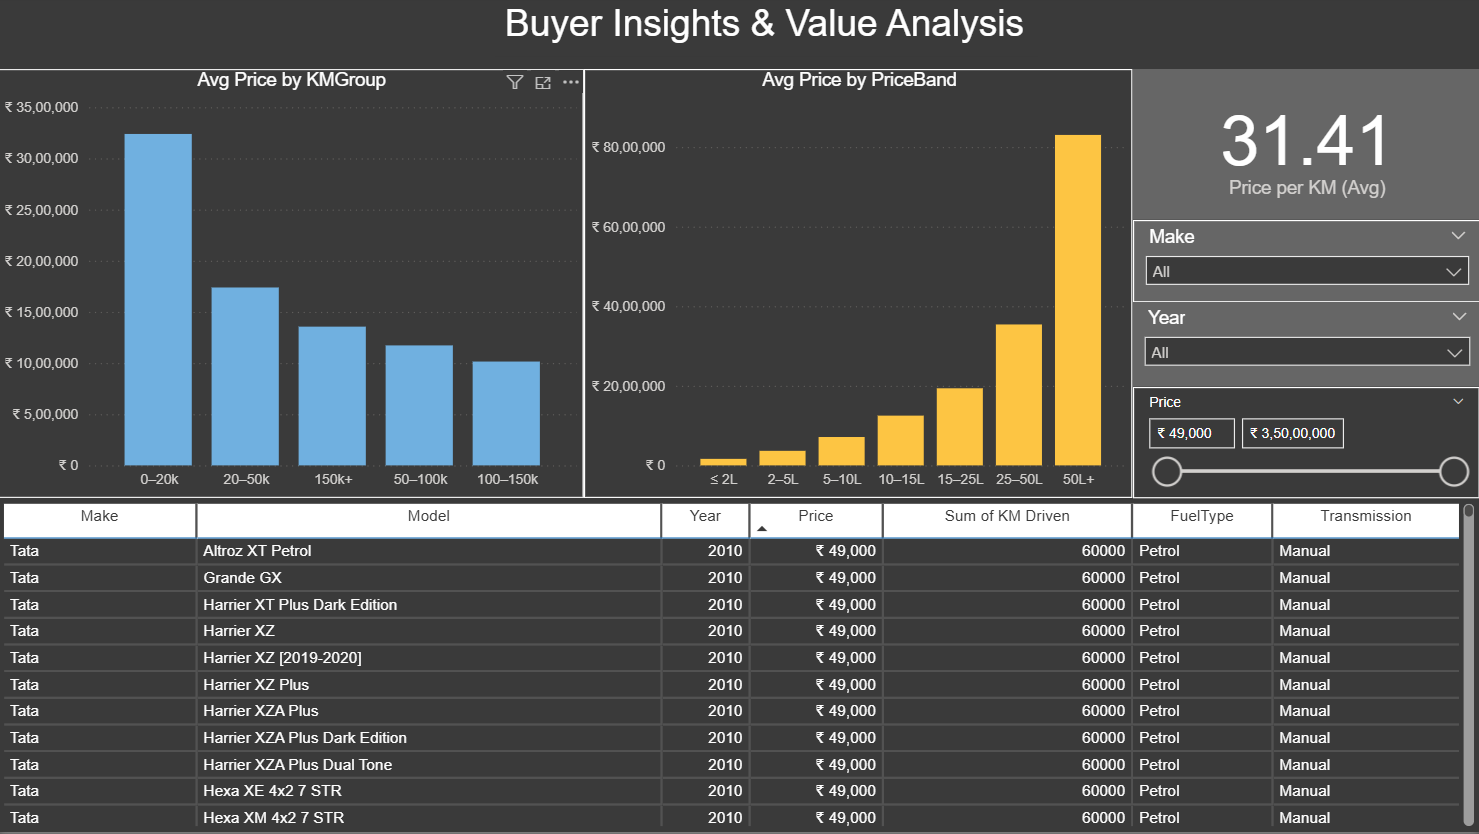

Layout of this report page (visuals, bound fields, positions):
{"tool":"powerbi","page":{"name":"Buyer Insights","canvas":[1280,720],"ordinal":1},"visuals":[{"type":"textbox","box":[429.5,0,467.9,50.8],"z":0},{"type":"columnChart","fields":{"Y":["Measures (2).Avg Price"],"Category":["Dim_KMGroup.KMGroup"]},"box":[0,61.7,506.3,370.5],"z":1000},{"type":"columnChart","fields":{"Category":["Dim_PriceBand.PriceBand"],"Y":["Measures (2).Avg Price"]},"box":[506.3,61.7,473.4,370.5],"z":2000},{"type":"tableEx","fields":{"Values":["Dim_Make.Make","Dim_Make.Model","Dim_Year.Year","Fact_Cars.Price","Sum(Fact_Cars.Kilometer)","Dim_Fuel.FuelType","DimTransmission.Transmission"]},"box":[0,432.2,1278.9,288.2],"z":3000},{"type":"card","fields":{"Values":["Measures (2).Price per KM (Avg)"]},"box":[979.8,61.7,300.5,130.4],"z":4000},{"type":"slicer","fields":{"Values":["Fact_Cars.Make"]},"box":[979.8,192.1,300.5,71.4],"z":5000},{"type":"slicer","fields":{"Values":["Fact_Cars.Price"]},"box":[979.8,336.2,299.1,96.1],"z":6000},{"type":"slicer","fields":{"Values":["Fact_Cars.Year"]},"box":[979.8,263.5,300.5,72.7],"z":7000}]}

Visuals, with their boxes in screenshot pixels (x1, y1, x2, y2), scaled from the page's 1280x720 canvas onto the 1479x834 screenshot:
textbox: l=496, t=0, r=1037, b=59
columnChart - Measures (2).Avg Price x Dim_KMGroup.KMGroup: l=0, t=71, r=585, b=501
columnChart - Dim_PriceBand.PriceBand x Measures (2).Avg Price: l=585, t=71, r=1132, b=501
tableEx - Dim_Make.Make x Dim_Make.Model: l=0, t=501, r=1478, b=833
card - Measures (2).Price per KM (Avg): l=1132, t=71, r=1478, b=223
slicer - Fact_Cars.Make: l=1132, t=223, r=1478, b=305
slicer - Fact_Cars.Price: l=1132, t=389, r=1478, b=501
slicer - Fact_Cars.Year: l=1132, t=305, r=1478, b=389
